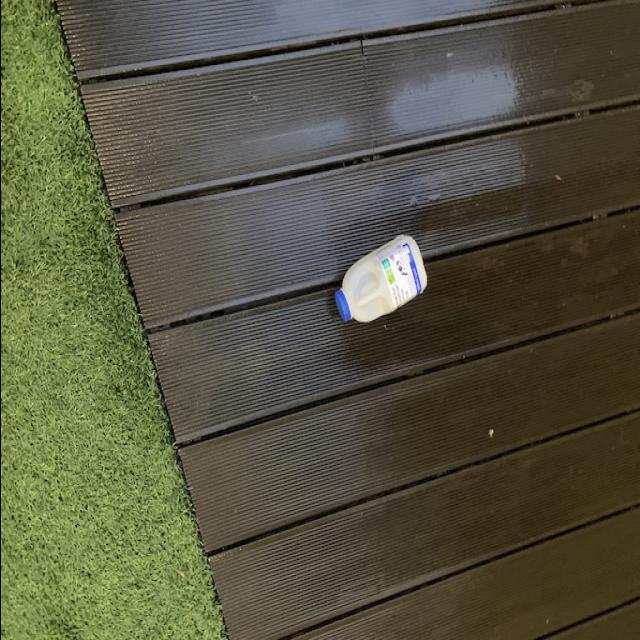litter: (332, 231, 428, 329)
